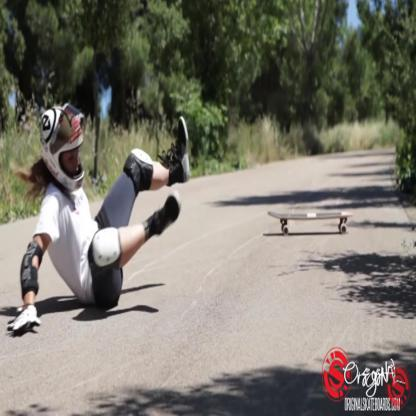Fall_Down: (9, 107, 193, 335)
